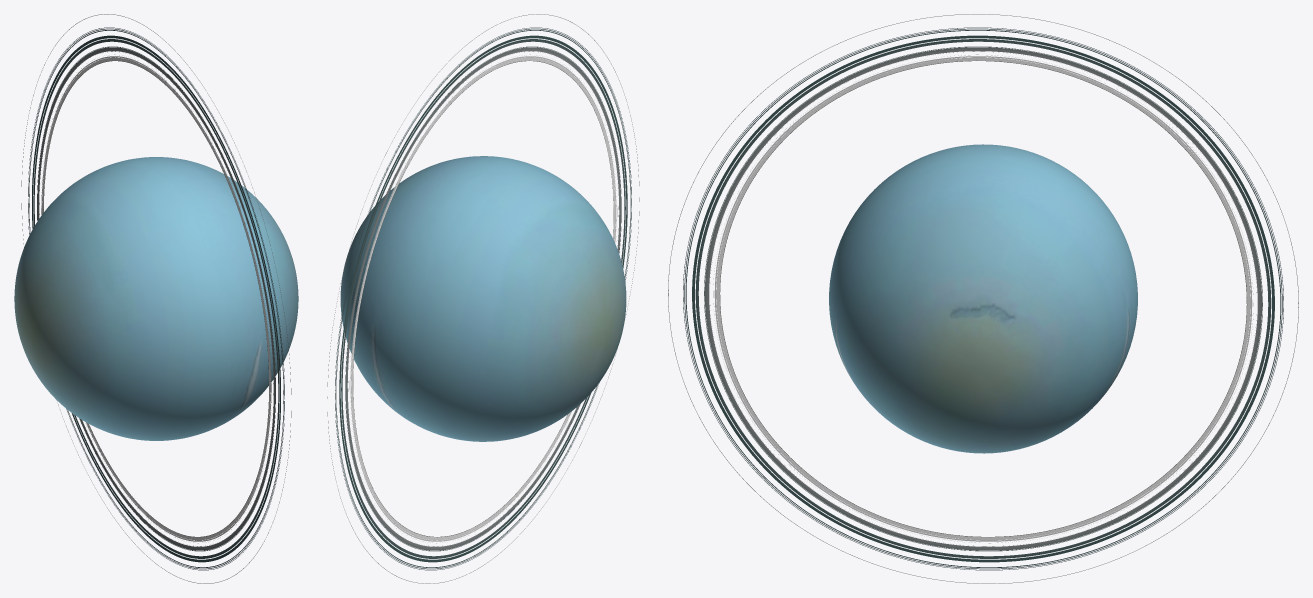
Rendered from Uranus.glb.
3 renders of one model, left to right at view 1: azimuth 30°, elevation 25°; view 2: azimuth 150°, elevation 25°; view 3: azimuth 270°, elevation 25°, orthographic. The views are drawn at different scales.
Parts seen in each view (by area): view 1: node_id30, node_id32; view 2: node_id30, node_id32; view 3: node_id30, node_id32.
Boxes of the visible parts, <box> form: node_id30: <box>14,157,298,440</box>; node_id32: <box>21,14,291,583</box>; node_id30: <box>340,156,626,441</box>; node_id32: <box>327,14,639,583</box>; node_id30: <box>829,144,1137,453</box>; node_id32: <box>668,14,1298,583</box>.
Size of the model in its own units: 0.2506 by 0.512 by 0.5116.
Materials: 2 (2 with a texture image).
